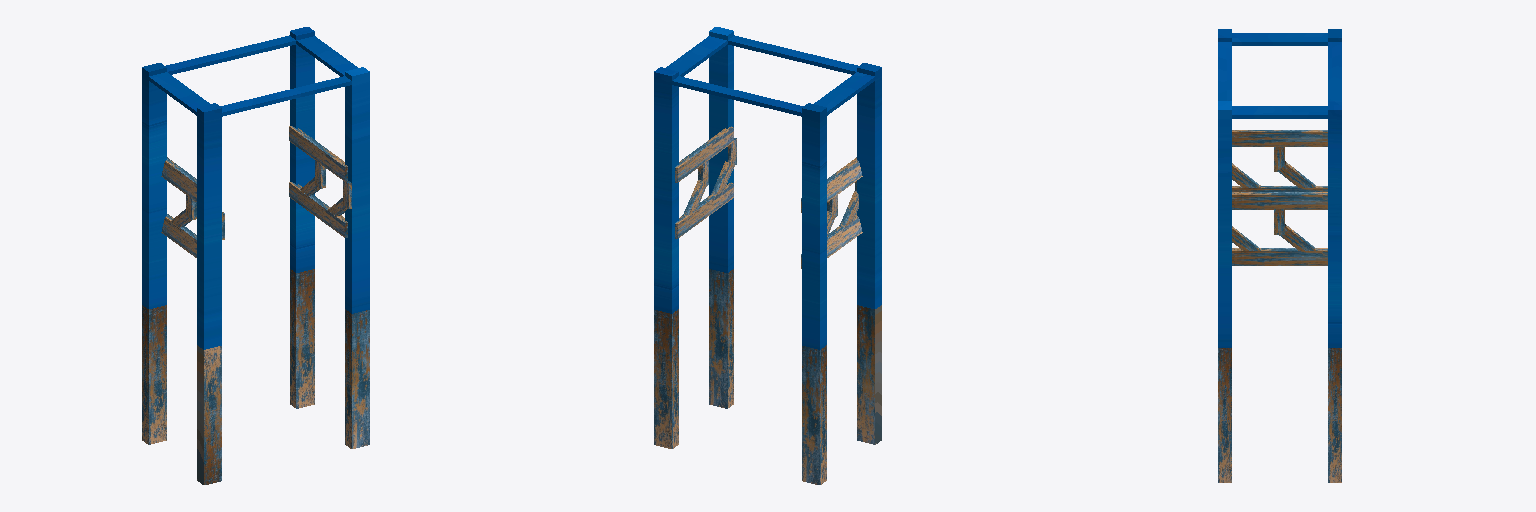
The picture shows the model from 3 angles: view 1: azimuth 30°, elevation 25°; view 2: azimuth 150°, elevation 25°; view 3: azimuth 270°, elevation 25°; orthographic projection.
Parts seen in each view (by area): view 1: Cube_Cube.001, Cube.002_Cube.003, Cube.003_Cube.004, Cube.001_Cube.002; view 2: Cube_Cube.001, Cube.002_Cube.003, Cube.003_Cube.004, Cube.006_Cube.007, Cube.001_Cube.002; view 3: Cube_Cube.001, Cube.002_Cube.003, Cube.003_Cube.004, Cube.001_Cube.002, Cube.006_Cube.007.
Boxes of the visible parts, x1,y1,x2,y2 form: Cube_Cube.001: [142, 27, 369, 484]; Cube.002_Cube.003: [161, 126, 347, 201]; Cube.003_Cube.004: [161, 182, 347, 257]; Cube.001_Cube.002: [171, 160, 325, 227]; Cube_Cube.001: [654, 27, 881, 484]; Cube.002_Cube.003: [675, 126, 862, 212]; Cube.003_Cube.004: [675, 182, 862, 268]; Cube.006_Cube.007: [711, 138, 858, 227]; Cube.001_Cube.002: [683, 160, 837, 236]; Cube_Cube.001: [1218, 29, 1341, 482]; Cube.002_Cube.003: [1232, 130, 1327, 209]; Cube.003_Cube.004: [1232, 186, 1327, 265]; Cube.001_Cube.002: [1274, 147, 1316, 250]; Cube.006_Cube.007: [1232, 163, 1260, 250].
Bounding box in the file's own units: 21.1 × 45.19 × 13.68.
4 materials, 2 textured.